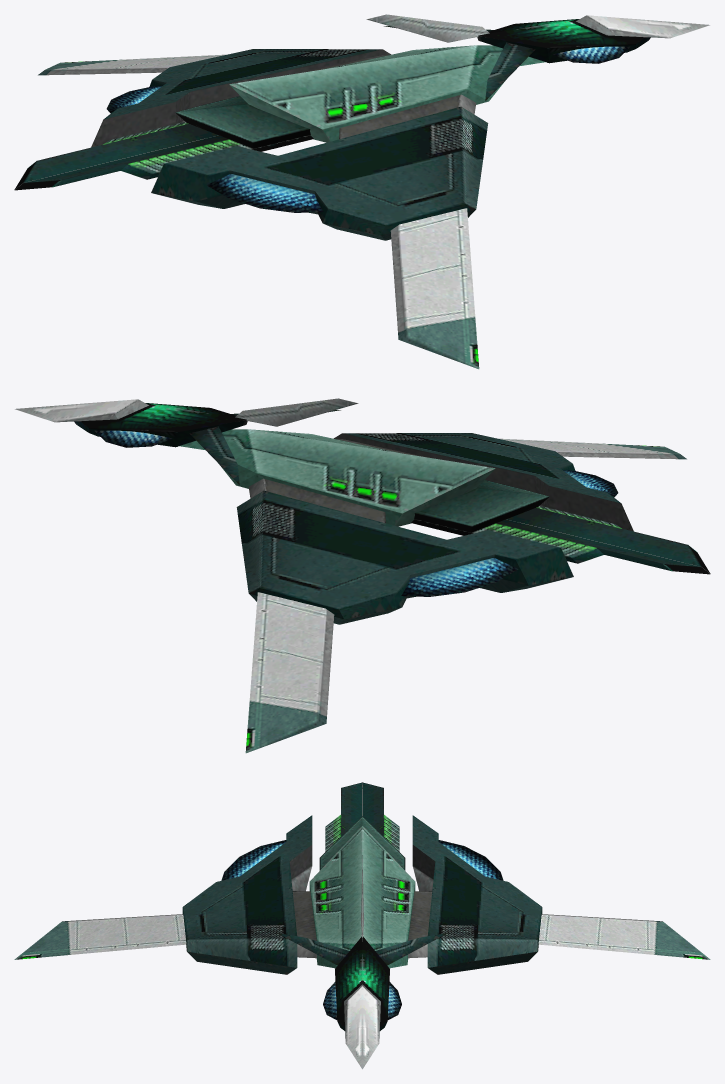
File: cyclone-wing.glb
The picture shows the model from 3 angles, top to bottom: view 1: azimuth 30°, elevation 25°; view 2: azimuth 150°, elevation 25°; view 3: azimuth 270°, elevation 25°; orthographic projection. The views are drawn at different scales.
Visible parts, largest first — view 1: SU0016; view 2: SU0016; view 3: SU0016.
Boxes of the visible parts, box(x1,y1,x2,y2) form: SU0016: box(14, 14, 709, 369); SU0016: box(15, 398, 710, 753); SU0016: box(14, 782, 710, 1069).
Size of the model in its own units: 40.42 by 9.6 by 42.1.
1 material, 1 textured.
